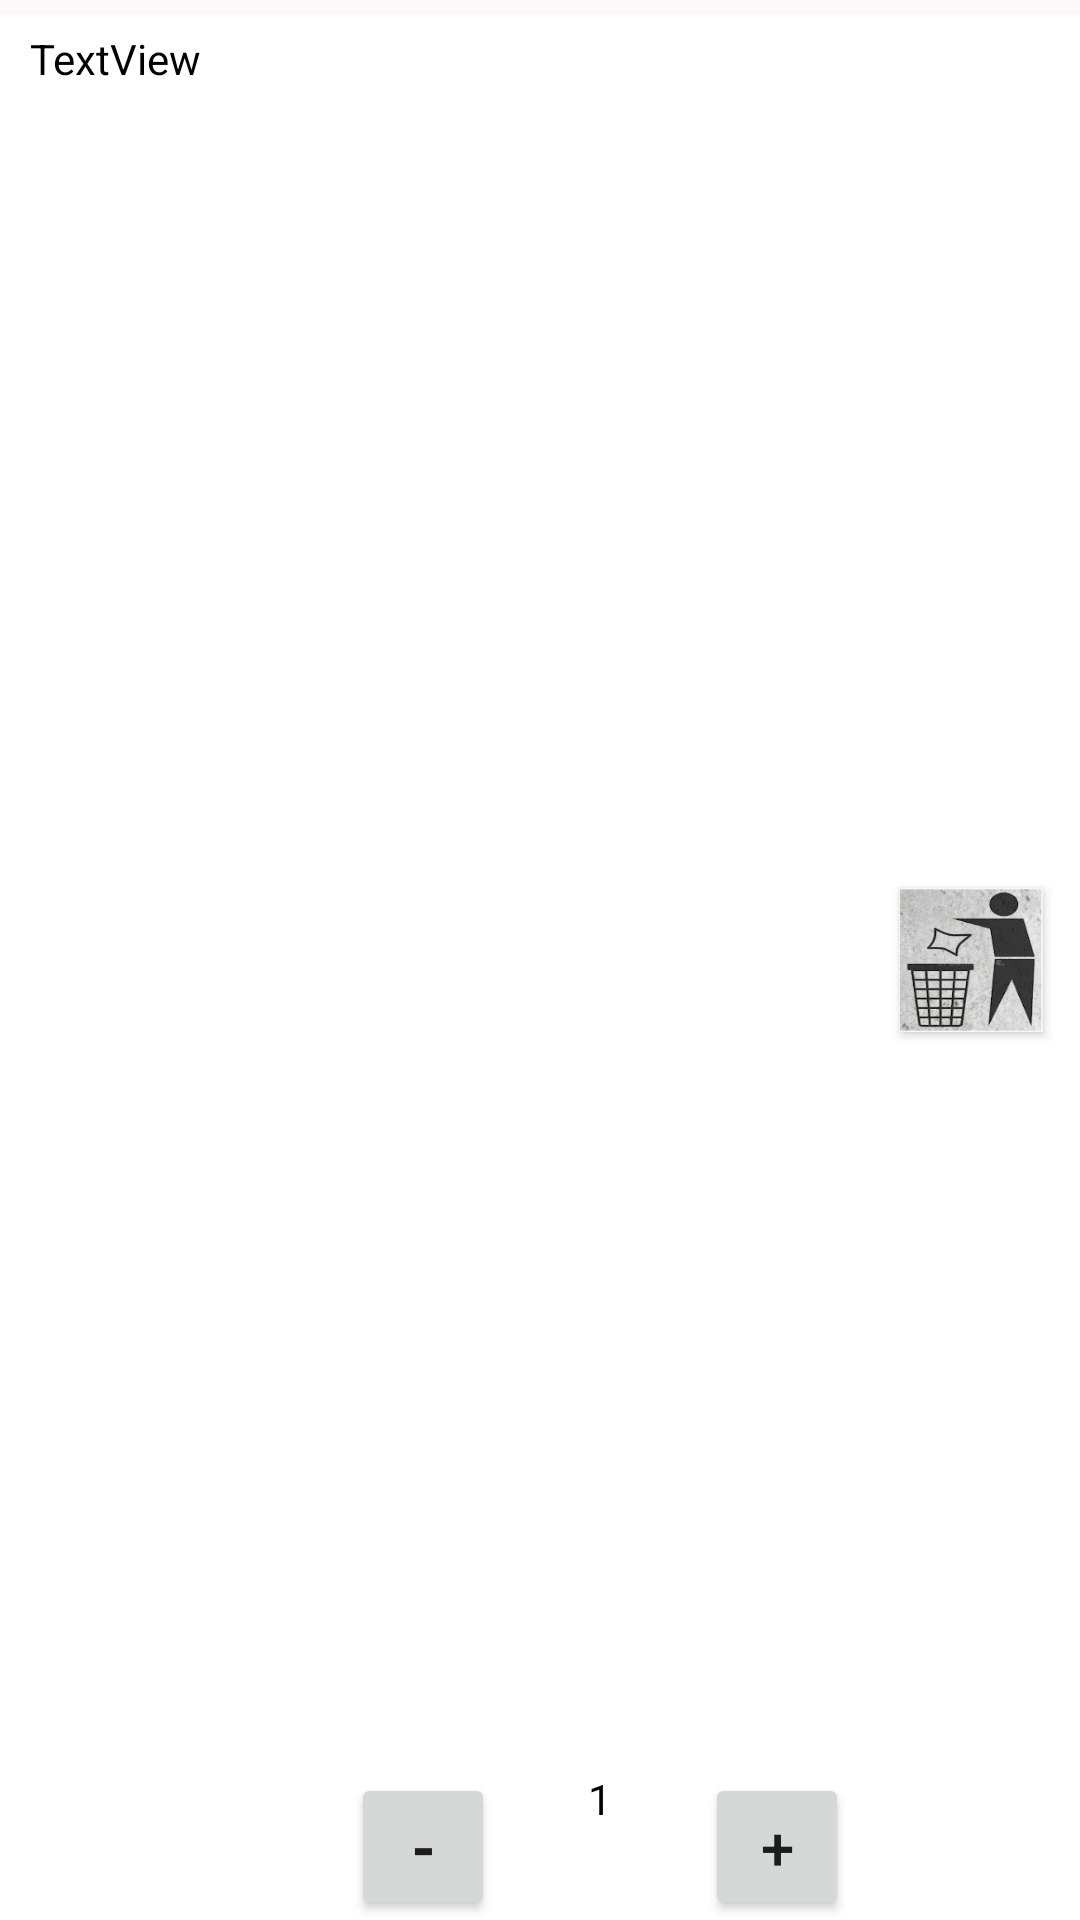

Screen size 1080 x 1920. Icon name, then its center in pixels as (x,y):
poubelle: (970,960)
